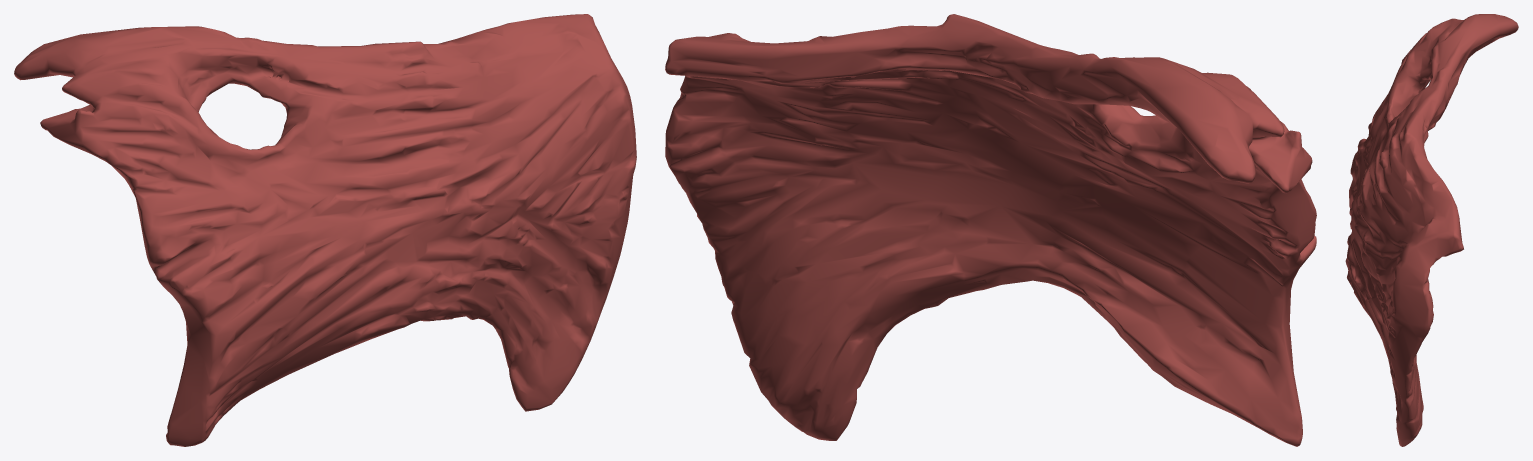
File: FMA40120.glb
3 renders of one model, left to right at view 1: azimuth 30°, elevation 25°; view 2: azimuth 150°, elevation 25°; view 3: azimuth 270°, elevation 25°, orthographic. The views are drawn at different scales.
Visible parts, largest first — view 1: FMA40120; view 2: FMA40120; view 3: FMA40120.
Part boxes in pixels (x1,y1,x2,y2): FMA40120: (14, 14, 636, 446); FMA40120: (665, 14, 1316, 446); FMA40120: (1345, 14, 1518, 446).
Size of the model in its own units: 0.0369 by 0.0272 by 0.0142.
